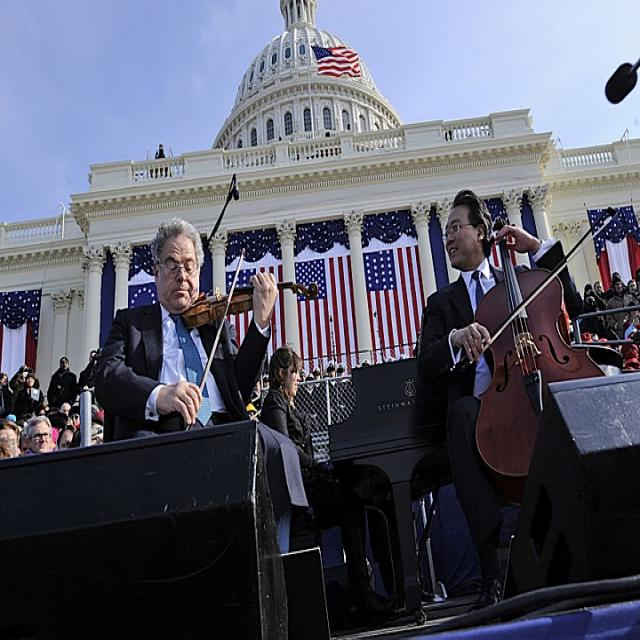cello: (470, 214, 614, 479)
violin: (181, 276, 325, 329)
